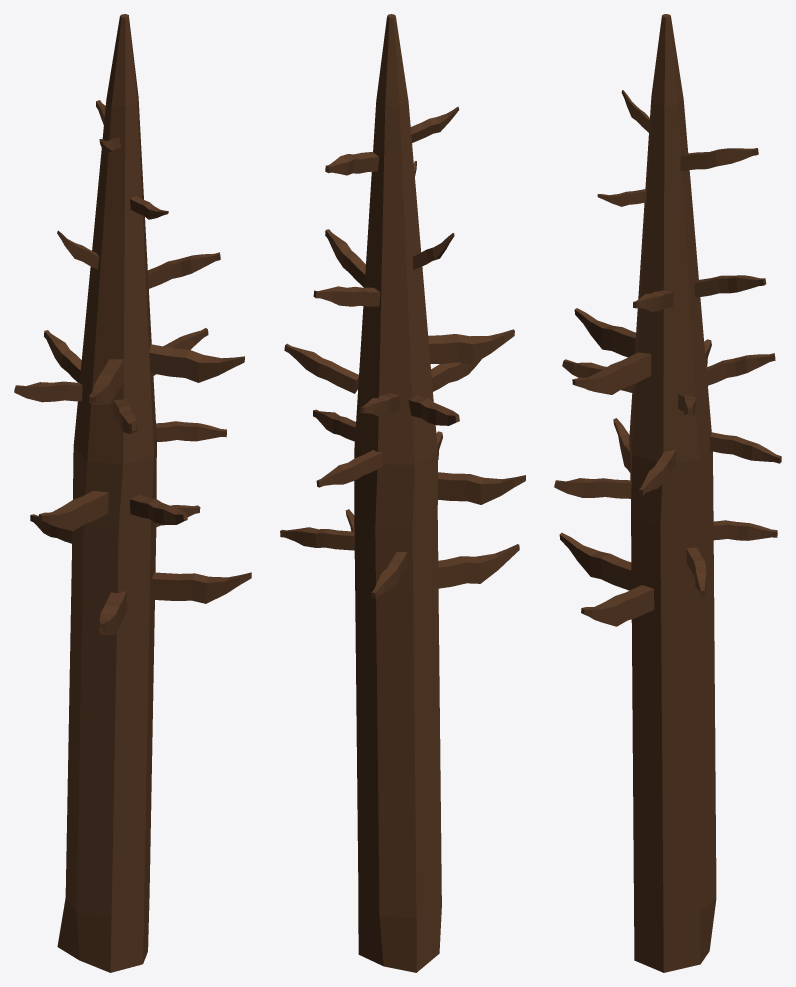
Rendered from deadtreeforest2.fbx.
The picture shows the model from 3 angles, left to right: view 1: azimuth 30°, elevation 25°; view 2: azimuth 150°, elevation 25°; view 3: azimuth 270°, elevation 25°; orthographic projection.
Parts seen in each view (by area): view 1: Cube.001; view 2: Cube.001; view 3: Cube.001.
Boxes of the visible parts, <box> form: Cube.001: <box>14,14,251,972</box>; Cube.001: <box>280,14,525,972</box>; Cube.001: <box>554,14,781,972</box>.
Bounding box in the file's own units: 98.79 × 433 × 94.19.
